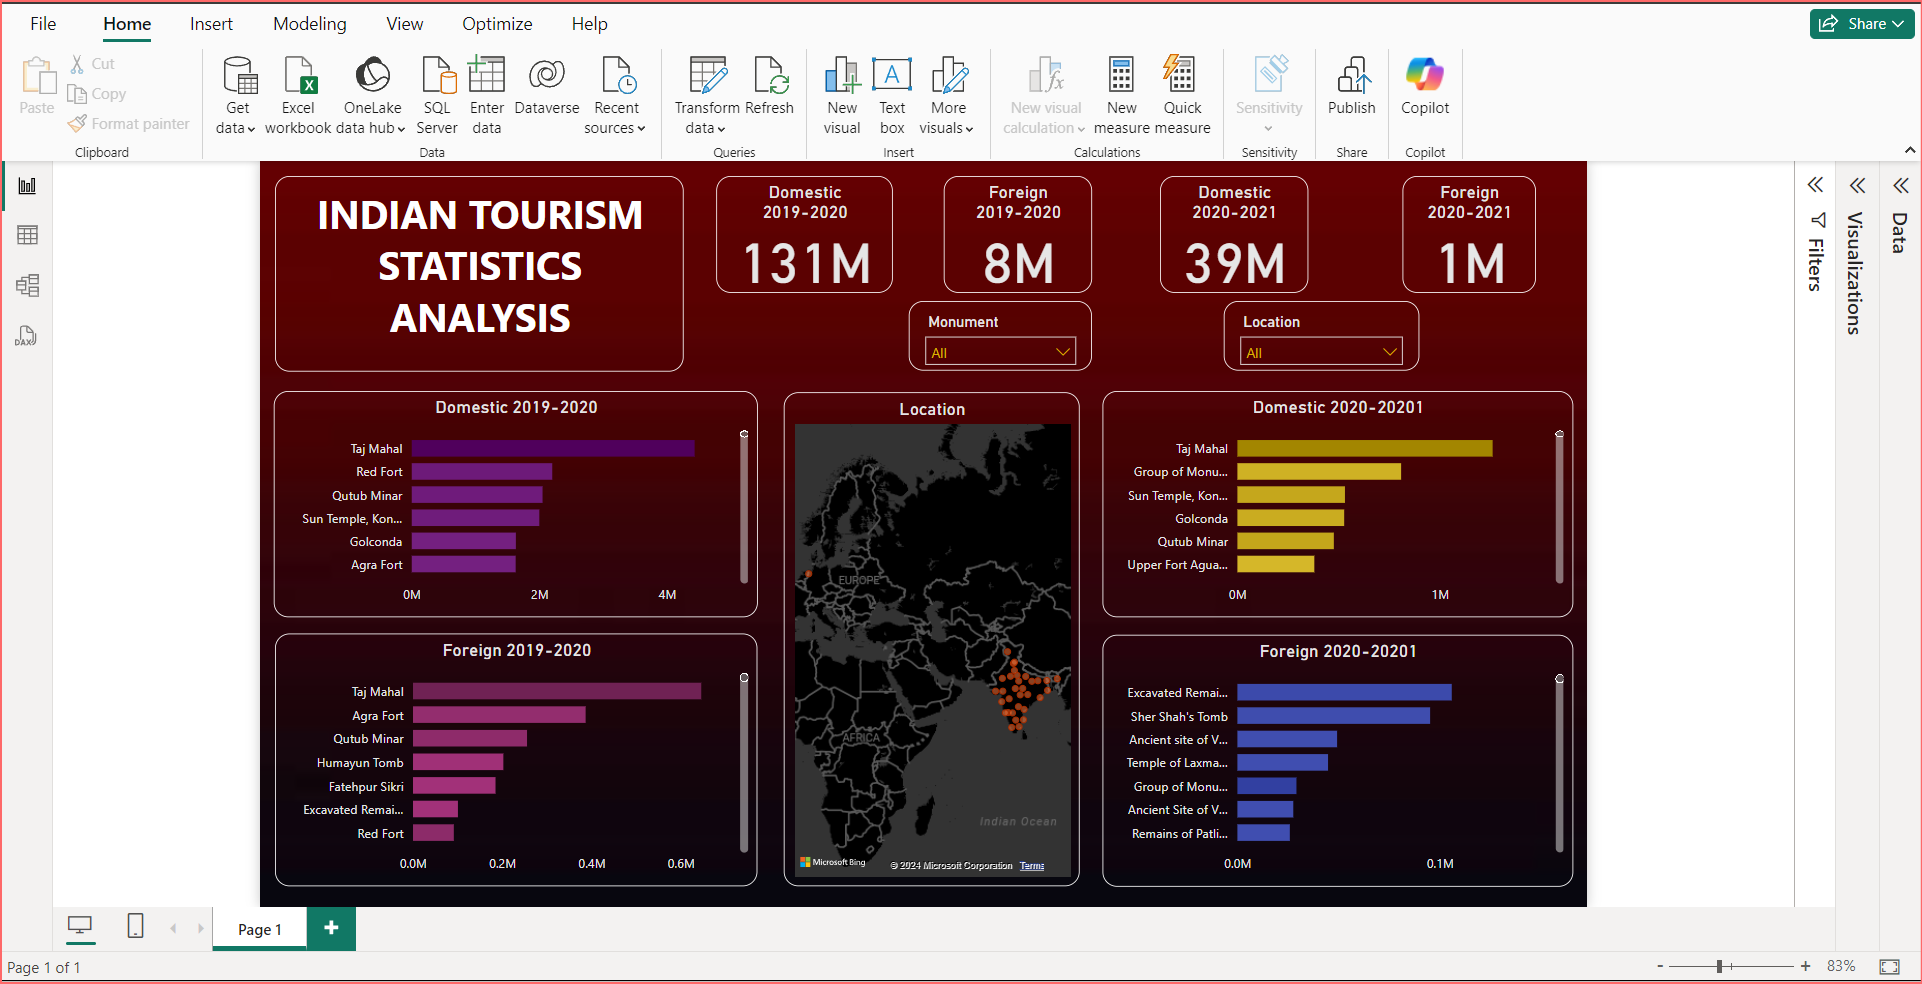

Layout of this report page (visuals, bound fields, positions):
{"tool":"powerbi","page":{"name":"Page 1","canvas":[1280,720],"ordinal":0},"visuals":[{"type":"textbox","box":[14.3,14.3,394.3,188.6],"z":0},{"type":"map","title":"Location","fields":{"Category":["India-Tourism-Statistics-2021-Table-5 2 3.Circle"]},"box":[505.7,222.9,285.7,477.1],"z":1},{"type":"clusteredBarChart","title":"Domestic 2019-2020 ","fields":{"Category":["India-Tourism-Statistics-2021-Table-5 2 3.Name of the Monument "],"Y":["Sum(India-Tourism-Statistics-2021-Table-5 2 3.Domestic-2019-20)"]},"box":[12.9,221.4,467.1,218.6],"z":2},{"type":"clusteredBarChart","title":"Foreign 2019-2020","fields":{"Category":["India-Tourism-Statistics-2021-Table-5 2 3.Name of the Monument "],"Y":["Sum(India-Tourism-Statistics-2021-Table-5 2 3.Foreign-2019-20)"]},"box":[14.3,455.7,465.7,244.3],"z":3},{"type":"clusteredBarChart","title":"Domestic 2020-20201","fields":{"Category":["India-Tourism-Statistics-2021-Table-5 2 3.Name of the Monument "],"Y":["Sum(India-Tourism-Statistics-2021-Table-5 2 3.Domestic-2020-21)"]},"box":[812.9,221.4,454.3,218.6],"z":4},{"type":"clusteredBarChart","title":"Foreign 2020-20201","fields":{"Category":["India-Tourism-Statistics-2021-Table-5 2 3.Name of the Monument "],"Y":["Sum(India-Tourism-Statistics-2021-Table-5 2 3.Foreign-2020-21)"]},"box":[812.9,457.1,454.3,242.9],"z":5},{"type":"slicer","fields":{"Values":["India-Tourism-Statistics-2021-Table-5 2 3.Name of the Monument "]},"box":[625.7,135.7,177.1,67.1],"z":6},{"type":"slicer","fields":{"Values":["India-Tourism-Statistics-2021-Table-5 2 3.Circle"]},"box":[930,135.7,188.6,67.1],"z":7},{"type":"card","title":"Domestic 2019-2020","fields":{"Values":["Sum(India-Tourism-Statistics-2021-Table-5 2 3.Domestic-2019-20)"]},"box":[440,14.3,170,112.9],"z":8},{"type":"card","title":"Foreign 2019-2020","fields":{"Values":["Sum(India-Tourism-Statistics-2021-Table-5 2 3.Foreign-2019-20)"]},"box":[660,14.3,142.9,112.9],"z":9},{"type":"card","title":"Foreign 2020-2021","fields":{"Values":["Sum(India-Tourism-Statistics-2021-Table-5 2 3.Foreign-2020-21)"]},"box":[1102.9,14.3,128.6,112.9],"z":10},{"type":"card","title":"Domestic 2020-2021","fields":{"Values":["Sum(India-Tourism-Statistics-2021-Table-5 2 3.Domestic-2020-21)"]},"box":[868.6,14.3,142.9,112.9],"z":11}]}

Visuals, with their boxes on the page's 1280x720 design canvas (x1, y1, x2, y2). These are canvas units, not pixel positions in the 1922x984 screenshot, which may show the page scaled, cropped or inside an application window:
textbox: {"x1": 14, "y1": 14, "x2": 409, "y2": 203}
"Location" map: {"x1": 506, "y1": 223, "x2": 791, "y2": 700}
"Domestic 2019-2020 " clusteredBarChart: {"x1": 13, "y1": 221, "x2": 480, "y2": 440}
"Foreign 2019-2020" clusteredBarChart: {"x1": 14, "y1": 456, "x2": 480, "y2": 700}
"Domestic 2020-20201" clusteredBarChart: {"x1": 813, "y1": 221, "x2": 1267, "y2": 440}
"Foreign 2020-20201" clusteredBarChart: {"x1": 813, "y1": 457, "x2": 1267, "y2": 700}
slicer - India-Tourism-Statistics-2021-Table-5 2 3.Name of the Monument : {"x1": 626, "y1": 136, "x2": 803, "y2": 203}
slicer - India-Tourism-Statistics-2021-Table-5 2 3.Circle: {"x1": 930, "y1": 136, "x2": 1119, "y2": 203}
"Domestic 2019-2020" card: {"x1": 440, "y1": 14, "x2": 610, "y2": 127}
"Foreign 2019-2020" card: {"x1": 660, "y1": 14, "x2": 803, "y2": 127}
"Foreign 2020-2021" card: {"x1": 1103, "y1": 14, "x2": 1232, "y2": 127}
"Domestic 2020-2021" card: {"x1": 869, "y1": 14, "x2": 1012, "y2": 127}
